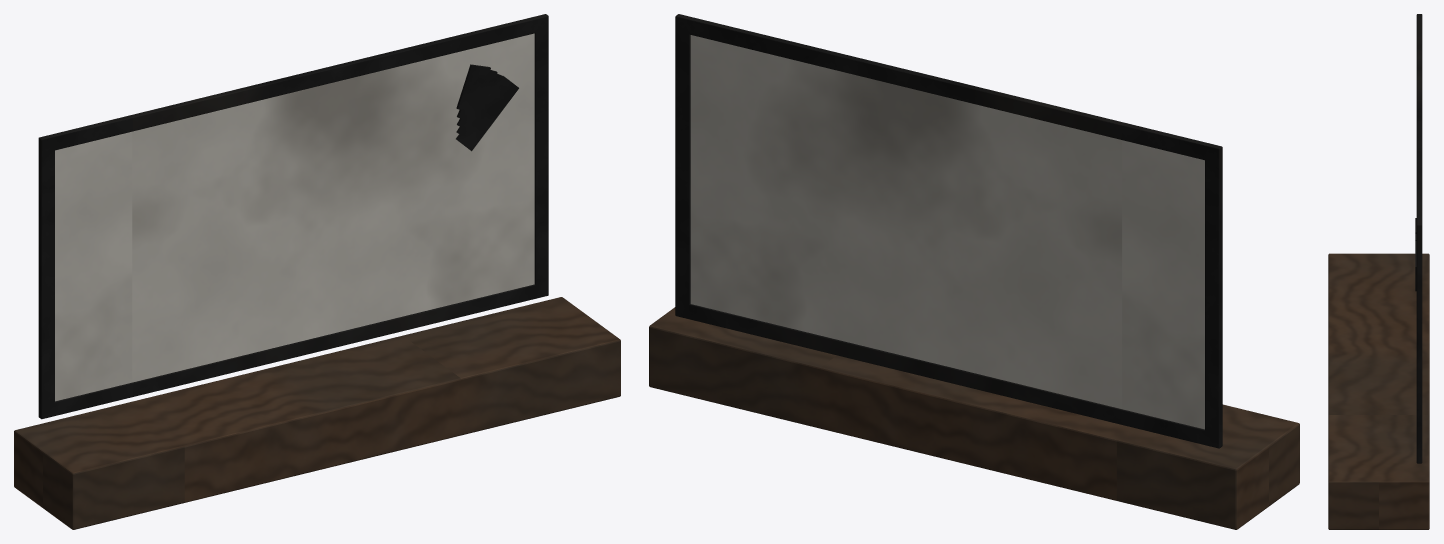
File: Q02_cinema_screen.glb
3 views of the same model, side by side, from view 1: azimuth 30°, elevation 25°; view 2: azimuth 150°, elevation 25°; view 3: azimuth 270°, elevation 25° (orthographic). The views are drawn at different scales.
Visible parts, largest first — view 1: Q02_cinema_screen; view 2: Q02_cinema_screen; view 3: Q02_cinema_screen.
Boxes of the visible parts, <box> form: Q02_cinema_screen: <box>14,14,620,529</box>; Q02_cinema_screen: <box>649,14,1299,529</box>; Q02_cinema_screen: <box>1328,14,1429,529</box>.
Bounding box in the file's own units: 8 × 4.85 × 1.5.
3 materials, 3 textured.
